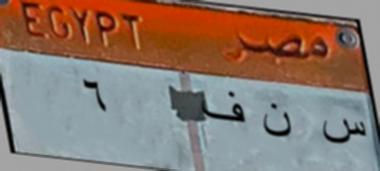6: (76, 71, 112, 119)
faa: (198, 86, 251, 130)
noon: (257, 99, 297, 140)
seen: (318, 106, 367, 158)
